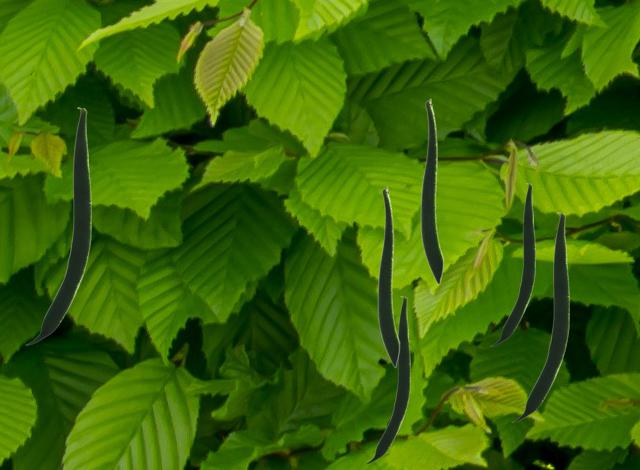french_bean: (25, 107, 90, 344), (511, 212, 568, 421), (364, 296, 409, 463), (490, 183, 534, 345), (420, 98, 443, 284), (377, 186, 399, 367)
